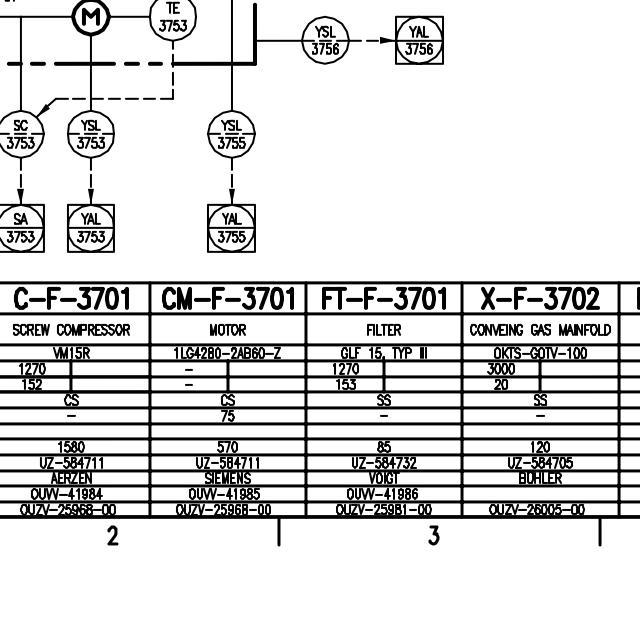M: (68, 0, 112, 39)
